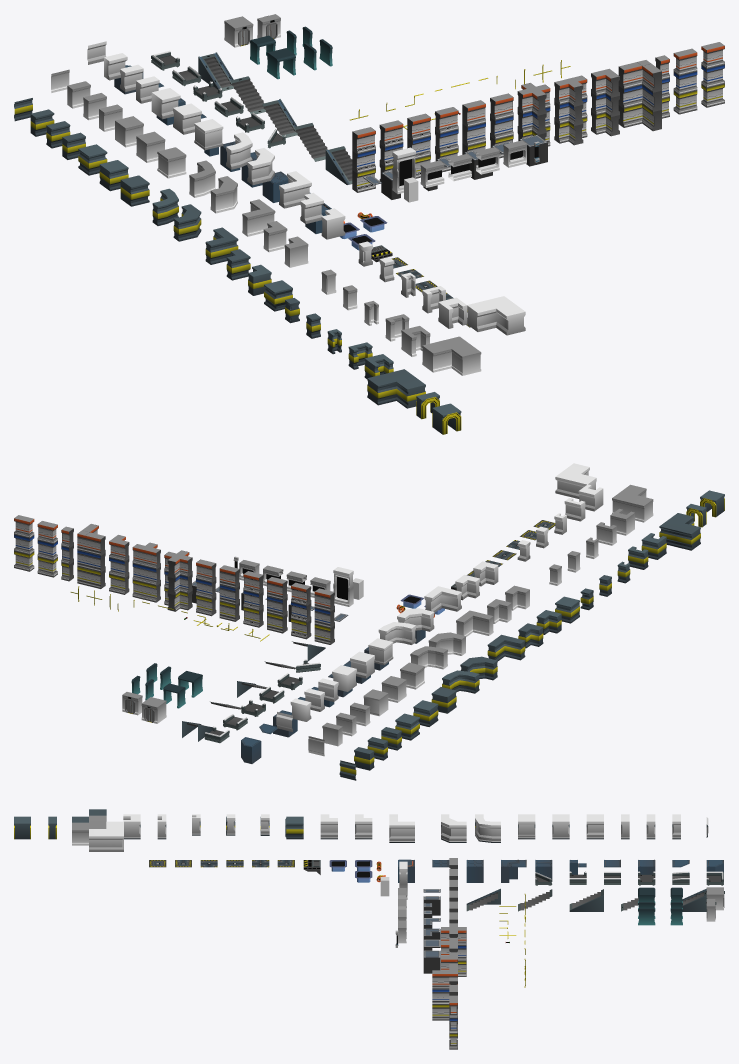
The model's file is ModuloGradient02.fbx.
The picture shows the model from 3 angles, top to bottom: view 1: azimuth 30°, elevation 25°; view 2: azimuth 150°, elevation 25°; view 3: azimuth 270°, elevation 25°; orthographic projection. The views are drawn at different scales.
Parts seen in each view (by area): view 1: ParedMitadEsqL1x1, ParedAltaEsqL1x1, SubParedEsqL1x1, Box022, Escalera01, Box023, ParedAltaEsqExt1x1Rect, ParedBajaEsqExt1x1Rect, ParedMitad2Caras009, Box030, Box014, Box024 (+25 smaller); view 2: SubParedEsqL1x1, ParedMitadEsqL1x1, ParedAltaEsqL1x1, ParedAltaEsqExt1x1Rect, ParedBajaEsqExt1x1Rect, ParedEsqExt1x1Rect, ParedMitad2Caras009, ParedBajaEsqExt1x1Curva01, ParedAltaEsqExt1x1Curva01, ParedEsqExt1x1Curva01, Box022, Box023 (+14 smaller); view 3: ParedAltaEsqL1x1, ParedMitadEsqL1x1, ParedEsqExt1x1Rect, ParedEsqExt1x1Curva02, ParedEsqExt1x1Curva01, EscaleraIzq01, Box022, ParedBajaEsquinero1x1, Escalera01, Box023, Pared1x12caras, Pared1x14caras (+7 smaller).
Boxes of the visible parts, <box> form: ParedMitadEsqL1x1: <box>422,336,481,375</box>; ParedAltaEsqL1x1: <box>467,296,525,335</box>; SubParedEsqL1x1: <box>367,369,425,408</box>; Box022: <box>618,60,661,92</box>; Escalera01: <box>198,52,233,91</box>; Box023: <box>517,83,550,115</box>; ParedAltaEsqExt1x1Rect: <box>242,199,275,236</box>; ParedBajaEsqExt1x1Rect: <box>205,227,238,264</box>; ParedMitad2Caras009: <box>392,147,415,193</box>; Box030: <box>618,104,661,131</box>; Box014: <box>618,85,661,111</box>; Box024: <box>554,75,587,106</box>; SubParedEsqL1x1: <box>659,513,700,550</box>; ParedMitadEsqL1x1: <box>612,484,653,522</box>; ParedAltaEsqL1x1: <box>555,463,596,498</box>; ParedAltaEsqExt1x1Rect: <box>456,610,493,636</box>; ParedBajaEsqExt1x1Rect: <box>487,634,525,661</box>; ParedEsqExt1x1Rect: <box>424,586,461,612</box>; ParedMitad2Caras009: <box>333,567,353,606</box>; ParedBajaEsqExt1x1Curva01: <box>442,670,479,693</box>; ParedAltaEsqExt1x1Curva01: <box>410,646,447,669</box>; ParedEsqExt1x1Curva01: <box>378,622,416,644</box>; Box022: <box>77,524,105,555</box>; Box023: <box>164,550,192,578</box>; ParedAltaEsqL1x1: <box>89,821,123,851</box>; ParedMitadEsqL1x1: <box>72,815,106,845</box>; ParedEsqExt1x1Rect: <box>389,814,414,840</box>; ParedEsqExt1x1Curva02: <box>441,814,466,840</box>; ParedEsqExt1x1Curva01: <box>475,814,500,840</box>; EscaleraIzq01: <box>569,889,603,911</box>; Box022: <box>432,963,457,989</box>; ParedBajaEsquinero1x1: <box>285,816,303,839</box>; Escalera01: <box>682,888,706,911</box>; Box023: <box>441,923,466,945</box>; Pared1x12caras: <box>552,814,569,837</box>; Pared1x14caras: <box>518,814,535,837</box>.
Bounding box in the file's own units: 1220 × 118 × 1631.
Materials: 6 (3 with a texture image).
